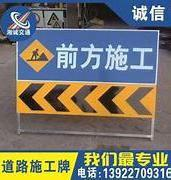sign: (14, 28, 160, 120)
